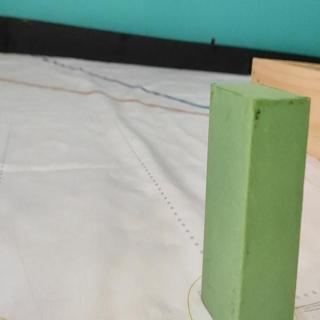greenbox: (201, 80, 311, 320)
